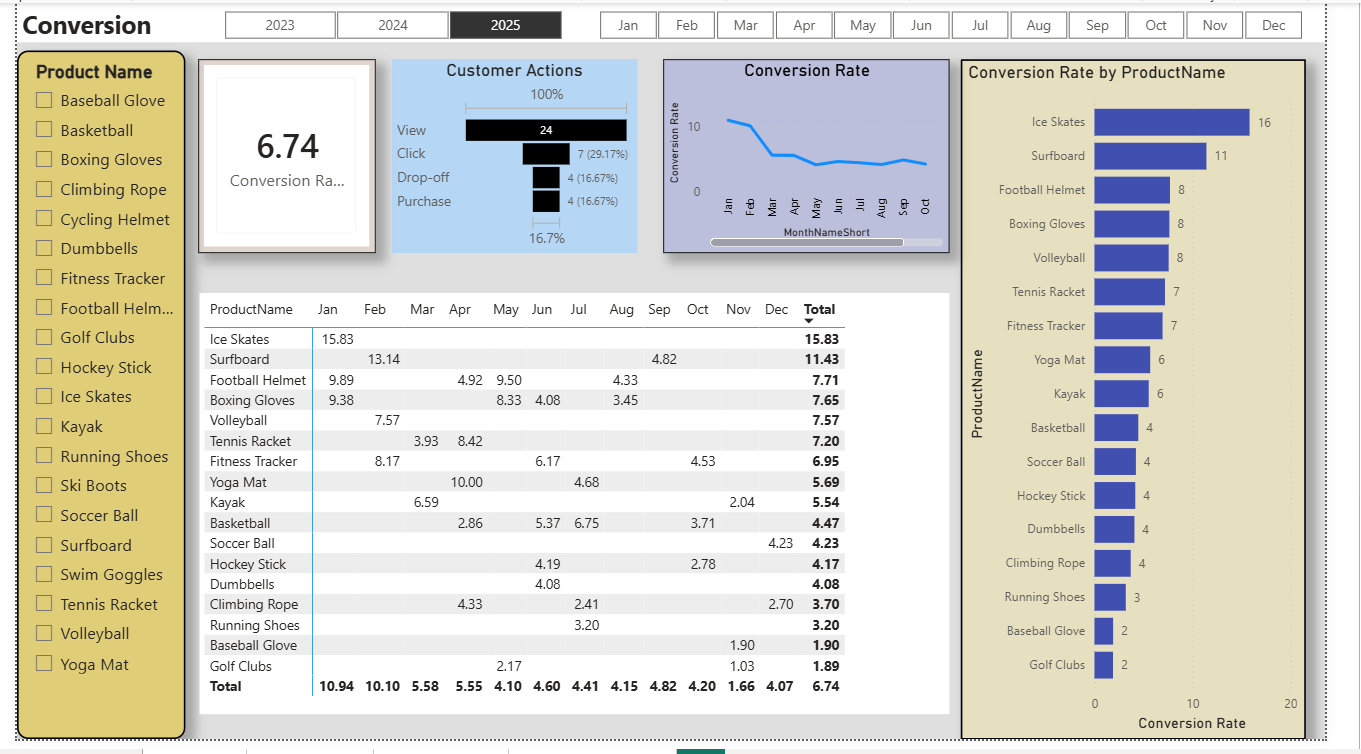

Layout of this report page (visuals, bound fields, positions):
{"tool":"powerbi","page":{"name":"Conversion","canvas":[1280,720],"ordinal":1},"visuals":[{"type":"textbox","box":[0,0,1280.3,38.4],"z":0},{"type":"slicer","fields":{"Values":["products.ProductName"]},"box":[0,46.5,165.1,673.8],"z":1000},{"type":"cardVisual","fields":{"Data":["Calculations.Conversion Rate"]},"box":[177.3,55,173.6,189.5],"z":5000},{"type":"slicer","fields":{"Values":["Calendar.Year"]},"box":[177.1,1.2,378.9,37.1],"z":9000},{"type":"slicer","fields":{"Values":["Calendar.MonthNameShort"]},"box":[543.5,1.2,736.7,37.1],"z":10000},{"type":"lineChart","title":"Conversion Rate ","fields":{"Y":["Calculations.Conversion Rate"],"Category":["Calendar.MonthNameShort"]},"box":[632.2,55,280,189.5],"z":11000},{"type":"clusteredBarChart","fields":{"Category":["products.ProductName"],"Y":["Calculations.Conversion Rate"]},"box":[923.2,55,337.5,665.2],"z":12000},{"type":"pivotTable","fields":{"Values":["Calculations.Conversion Rate"],"Rows":["products.ProductName"],"Columns":["Calendar.MonthNameShort"]},"box":[178.5,283.7,733.7,412.1],"z":12001},{"type":"funnel","title":"Customer Actions","fields":{"Category":["customer_journey.Action","customer_journey.Stage"],"Y":["CountNonNull(customer_journey.CustomerID)"]},"box":[366.8,55,239.7,189.5],"z":12002}]}

Visuals, with their boxes in screenshot pixels (x1, y1, x2, y2), scaled from the page's 1280x720 canvas onto the 1361x754 screenshot:
textbox: box(0, 0, 1360, 40)
slicer - products.ProductName: box(0, 49, 176, 753)
cardVisual - Calculations.Conversion Rate: box(189, 58, 373, 256)
slicer - Calendar.Year: box(188, 1, 591, 40)
slicer - Calendar.MonthNameShort: box(578, 1, 1360, 40)
"Conversion Rate " lineChart: box(672, 58, 970, 256)
clusteredBarChart - products.ProductName x Calculations.Conversion Rate: box(982, 58, 1340, 753)
pivotTable - Calculations.Conversion Rate x products.ProductName: box(190, 297, 970, 729)
"Customer Actions" funnel: box(390, 58, 645, 256)
